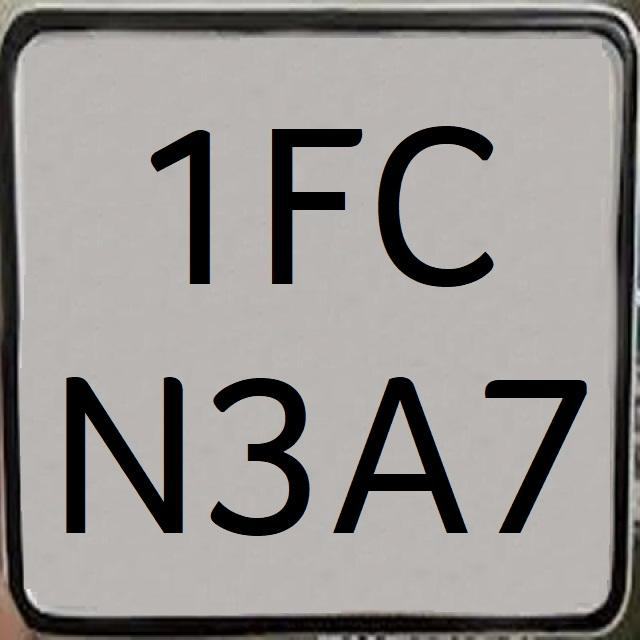3: (207, 356, 314, 546)
A: (334, 350, 473, 554)
C: (377, 106, 497, 288)
F: (262, 106, 357, 295)
N: (63, 350, 193, 538)
